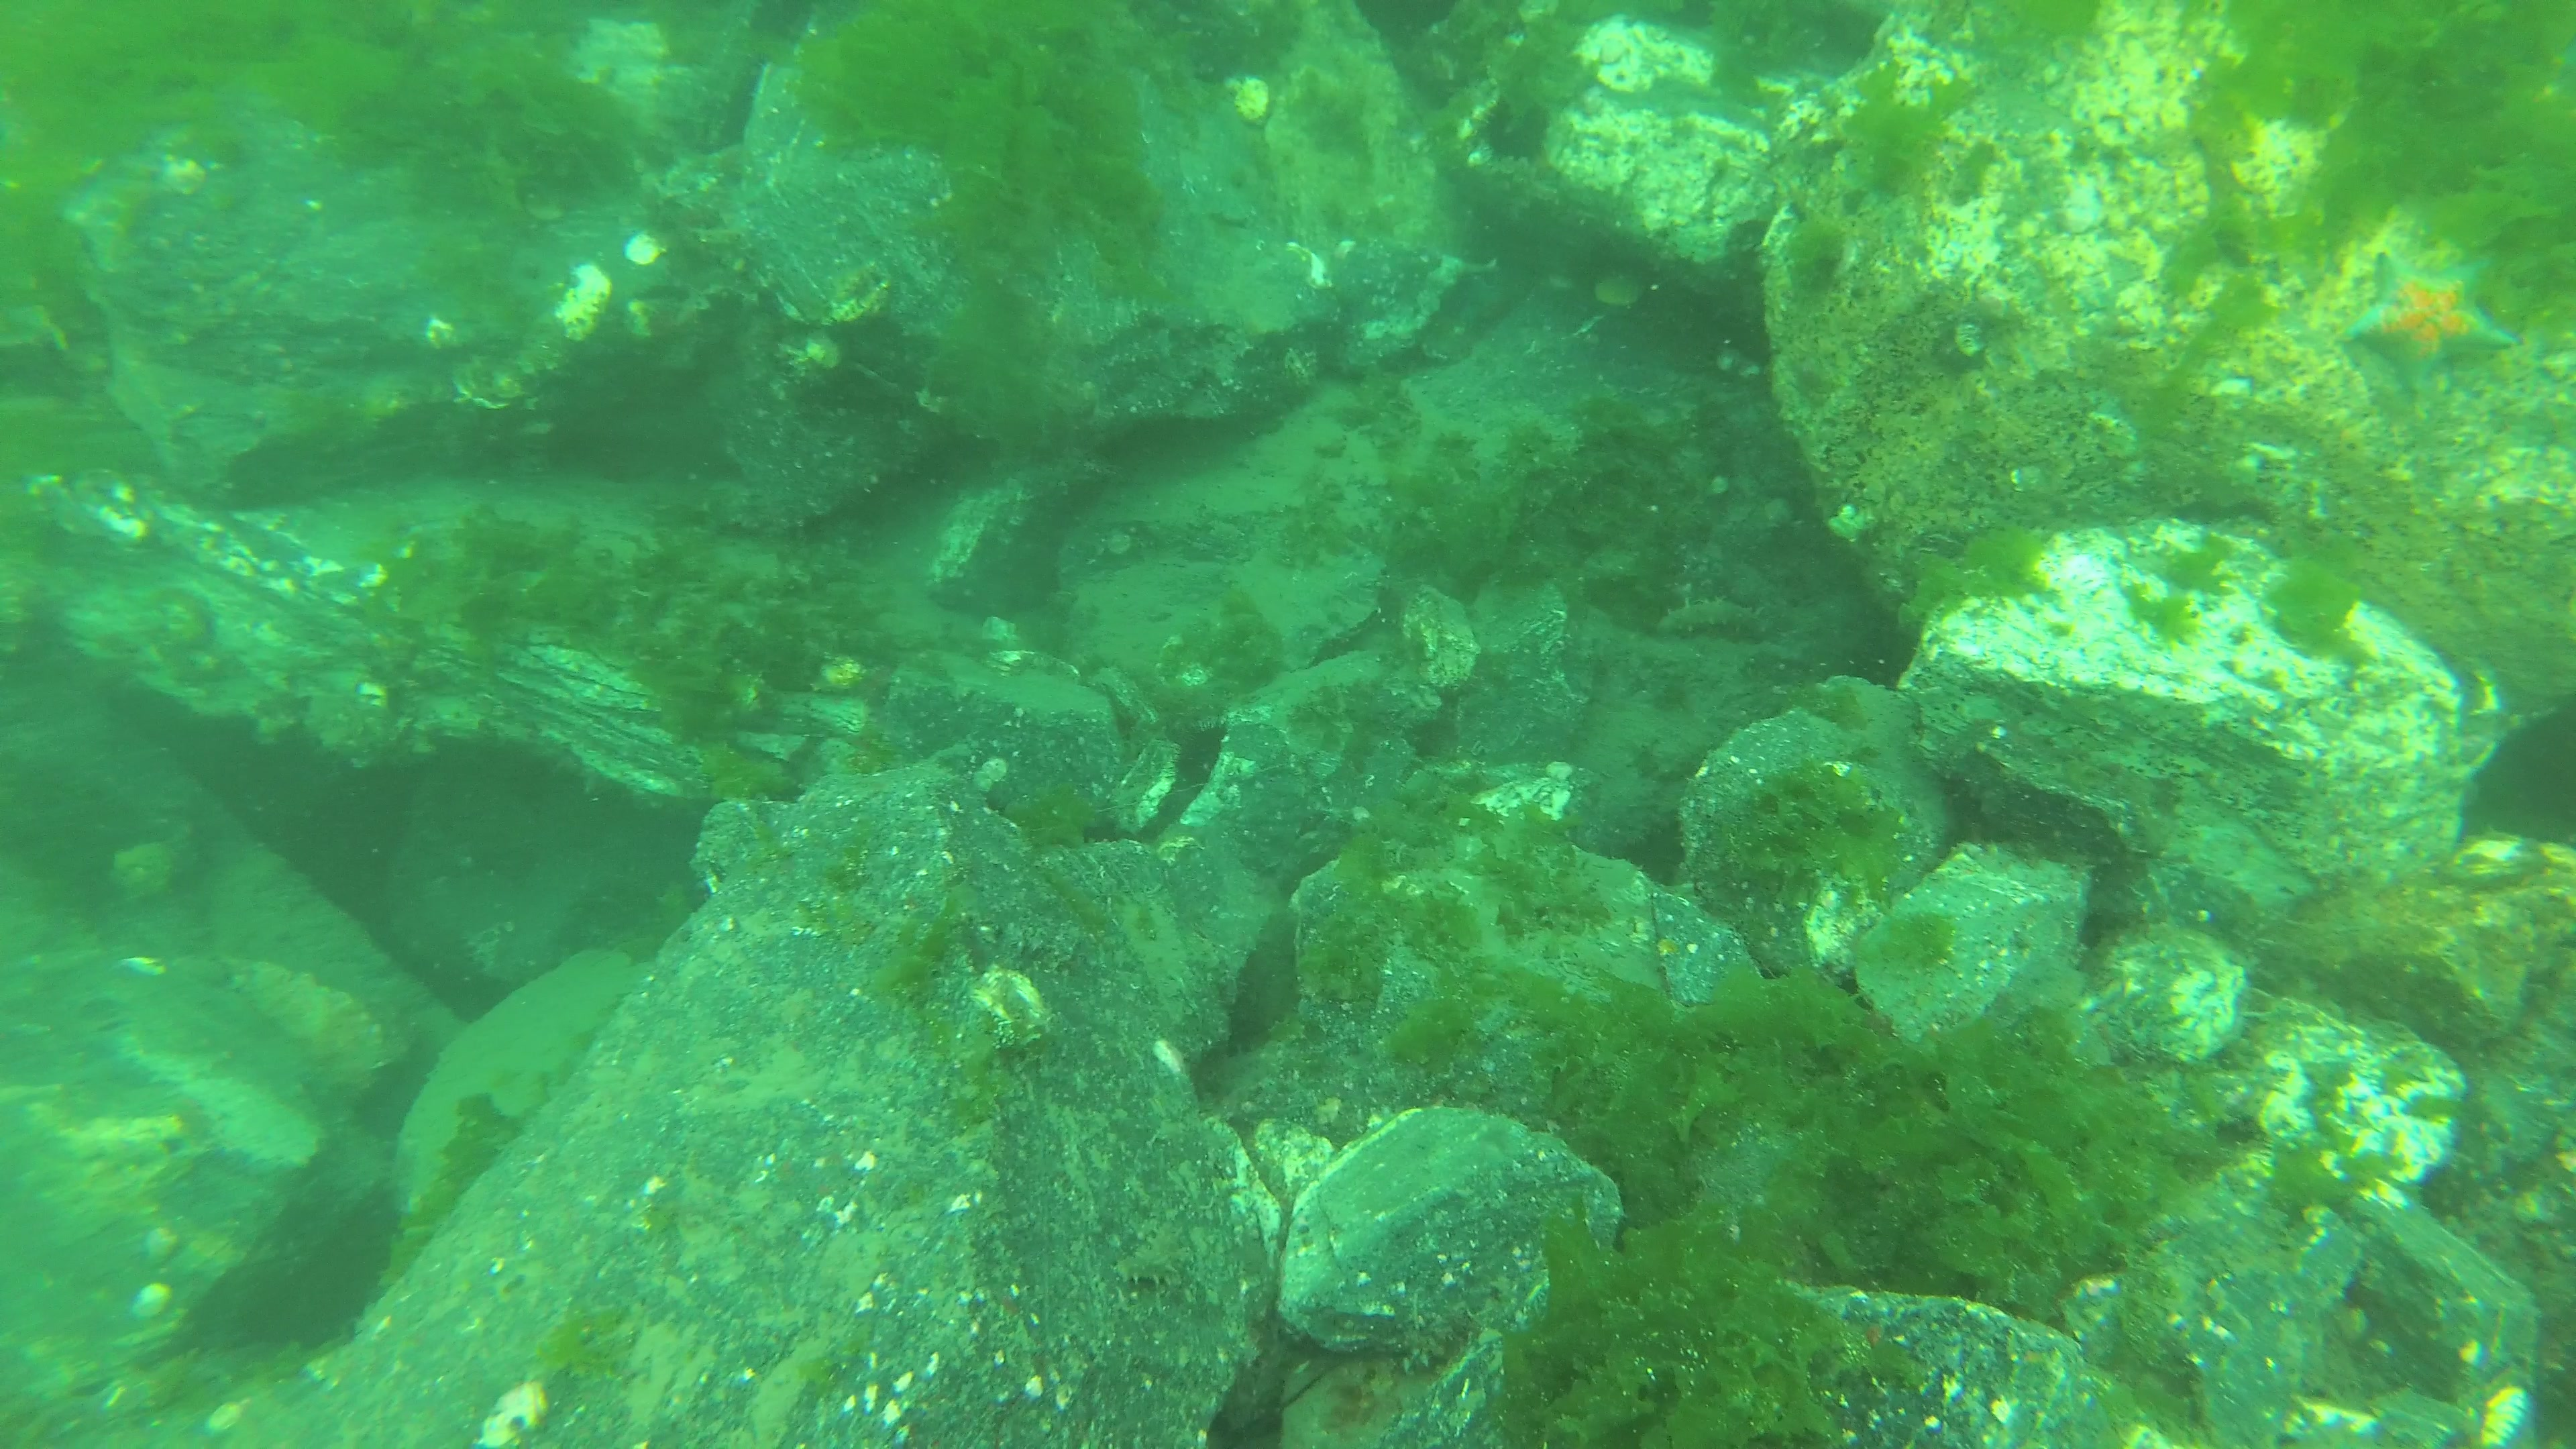echinus: (1481, 90, 1555, 166), (1169, 717, 1226, 793)
holothurian: (1645, 589, 1782, 655)
starfish: (2335, 246, 2512, 398)
